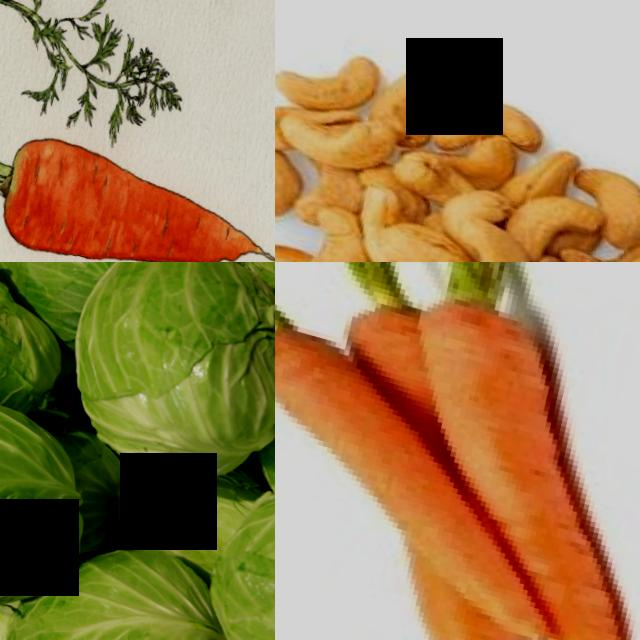cabbage: (32, 262, 275, 496), (0, 522, 228, 640), (0, 369, 89, 638), (176, 442, 275, 640)
carrot: (0, 91, 275, 262), (389, 262, 576, 454), (275, 274, 369, 493)
cashew: (415, 77, 564, 160), (496, 165, 599, 262), (275, 98, 401, 172), (275, 26, 372, 116), (369, 214, 468, 262), (588, 155, 640, 233), (275, 132, 309, 226), (456, 223, 535, 262), (549, 229, 640, 262)
